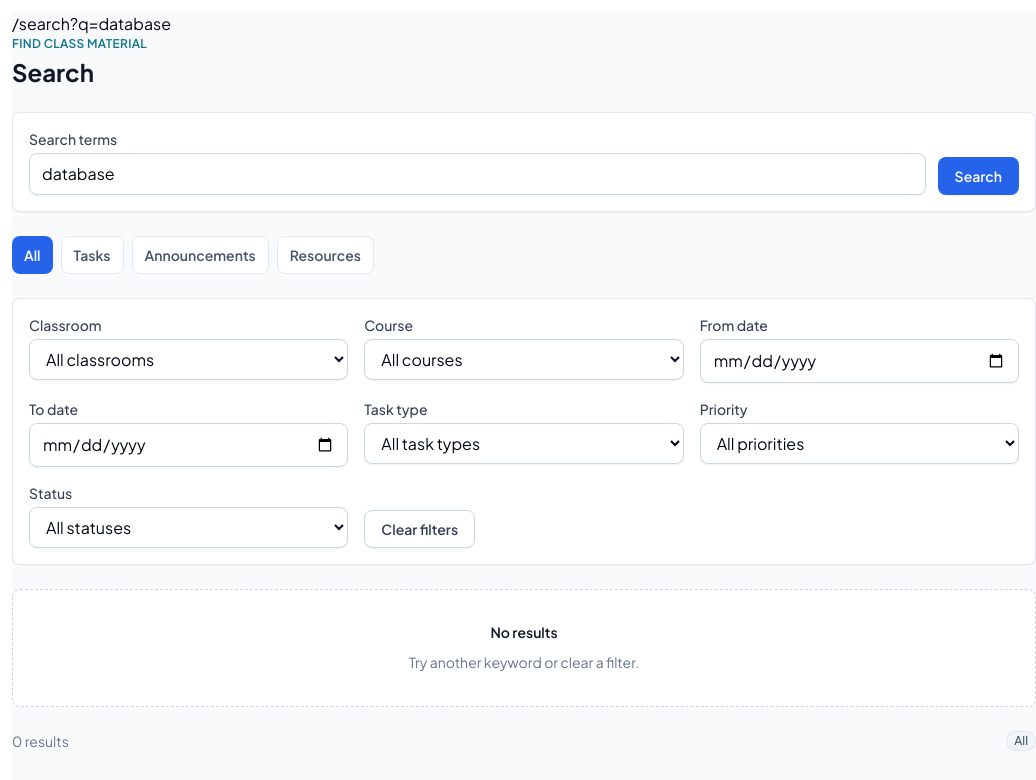
Scenario: global search › shows no results, safe authorization errors, validation details, and retry
Check: the heading "No results" is shown, box [490, 623, 558, 641]
Select "Computer Science" in the dropdown labelled "Classroom" at (189, 360), box [29, 339, 348, 380]
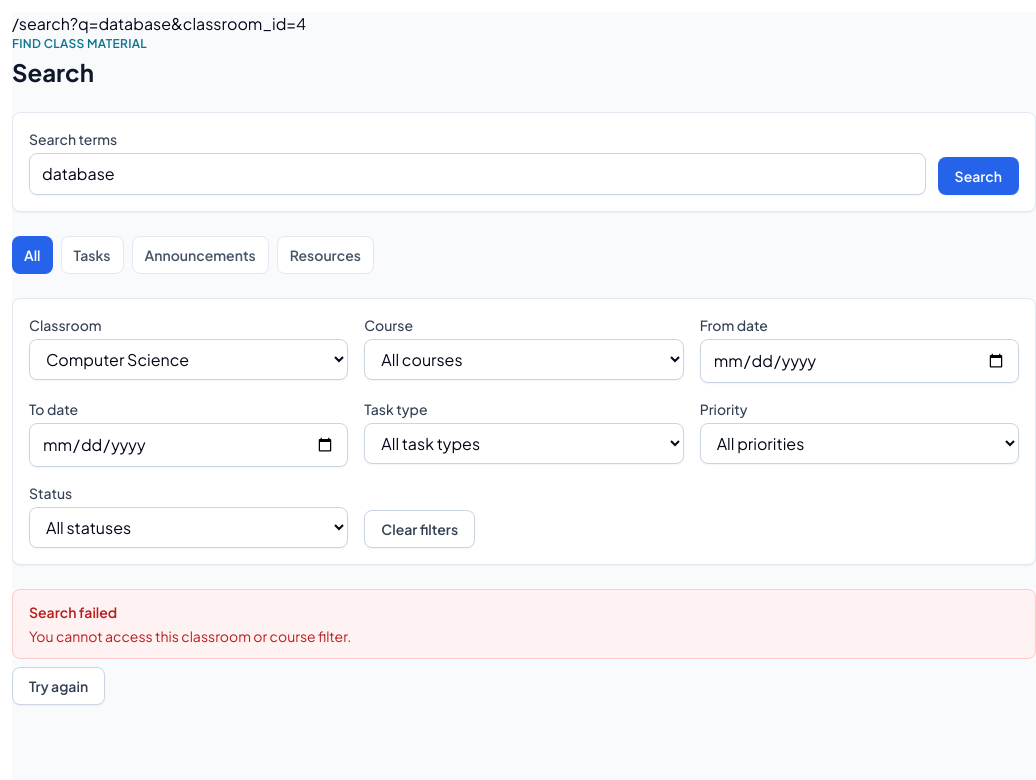
Check: the message does not show "Private classroom exists", box [12, 589, 1035, 659]
Click the button "Try again" at (59, 686), box [12, 667, 105, 705]
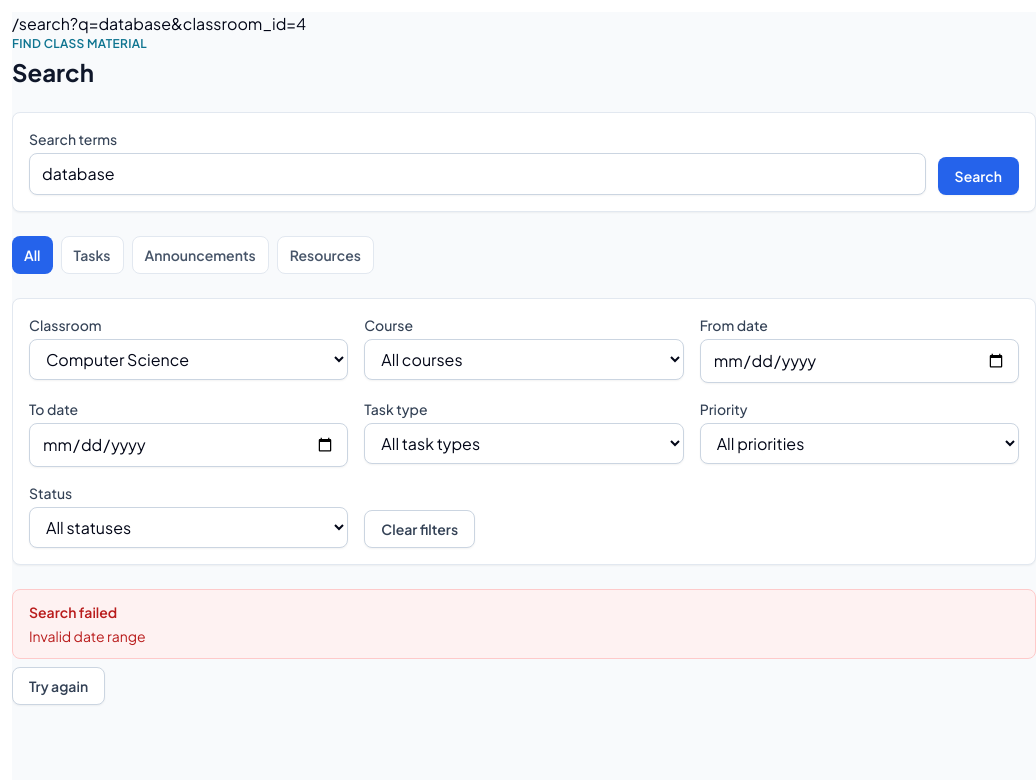
Check: the text "Invalid date range" is shown, box [29, 627, 146, 645]
Click the button "Try again" at (59, 686), box [12, 667, 105, 705]
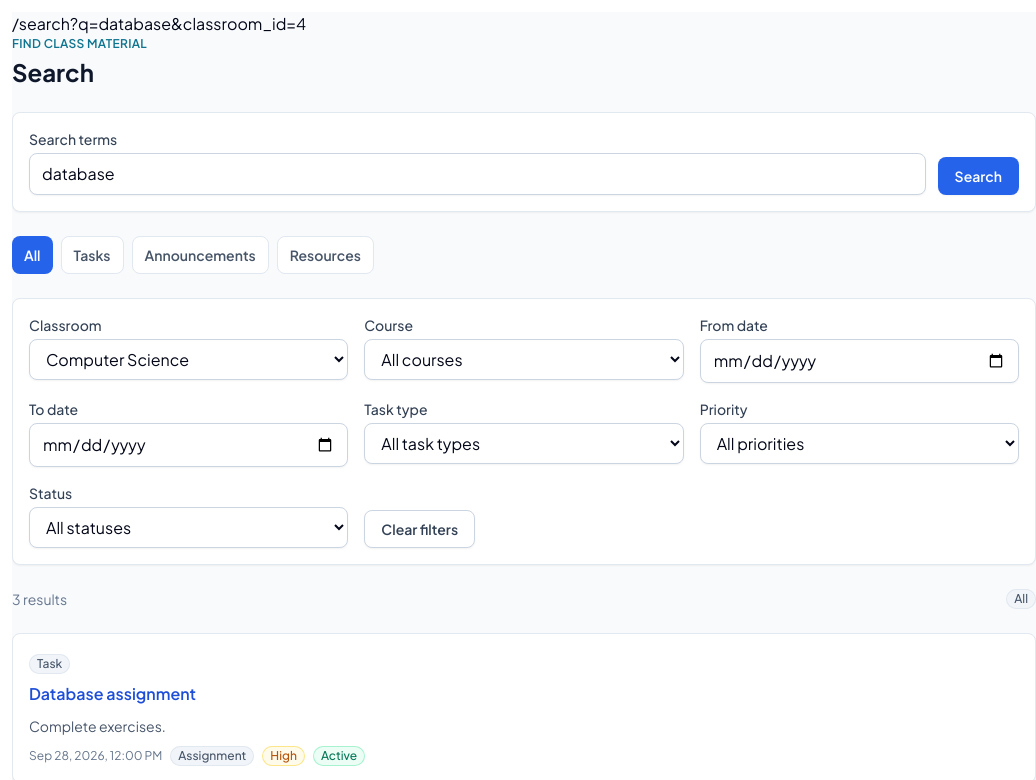
Check: the text "3 results" is shown, box [12, 589, 67, 609]
